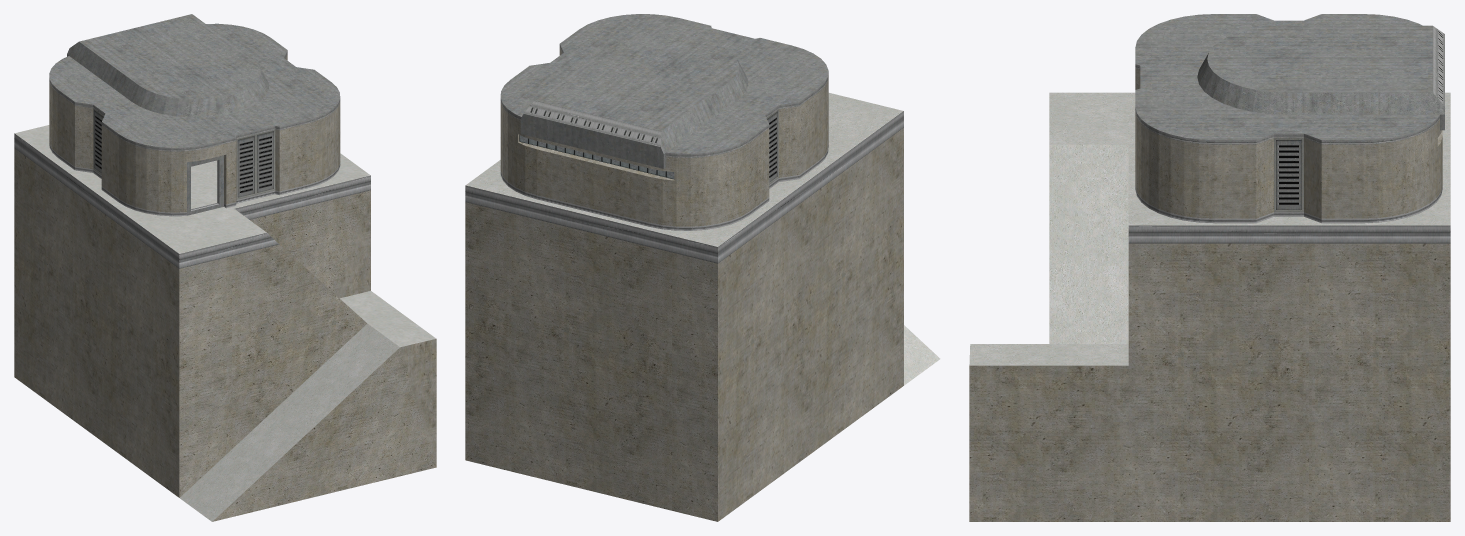
File: ply_all_house_sm_s02_fp2_r0_mesh_l0.fbx
3 views of the same model, side by side, from view 1: azimuth 30°, elevation 25°; view 2: azimuth 150°, elevation 25°; view 3: azimuth 270°, elevation 25° (orthographic). The views are drawn at different scales.
Parts seen in each view (by area): view 1: mesh_node; view 2: mesh_node; view 3: mesh_node.
Part boxes in pixels (x1,y1,x2,y2): mesh_node: [14, 14, 436, 521]; mesh_node: [465, 14, 940, 521]; mesh_node: [969, 14, 1450, 521].
Size of the model in its own units: 15.87 by 22.12 by 24.27.
